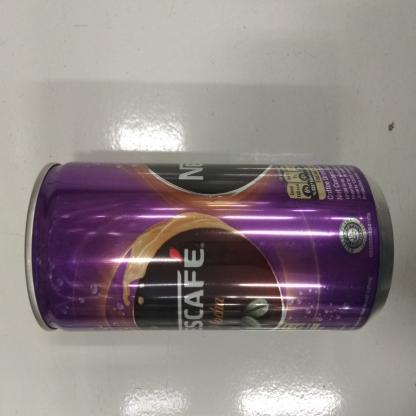can: (21, 155, 399, 333)
